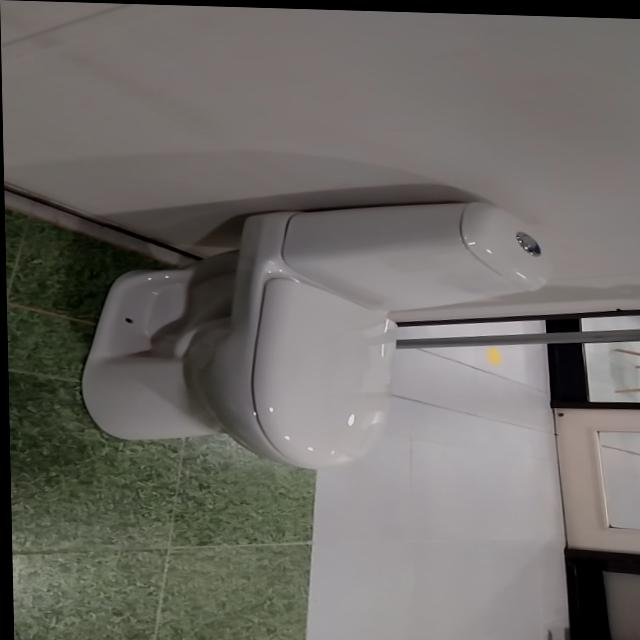toilet: (2, 1, 640, 640), (74, 187, 552, 474)
